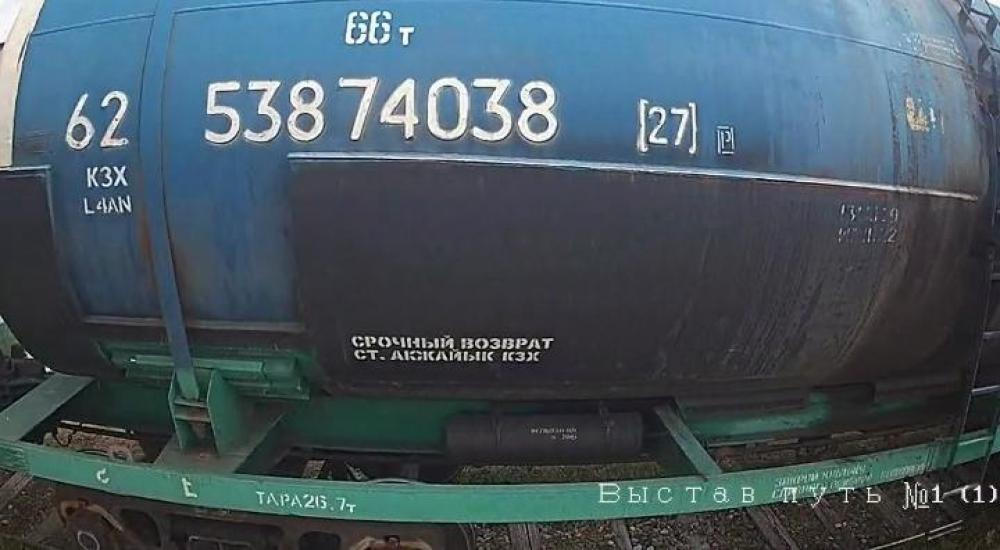Wagon-number: (201, 71, 566, 148)
